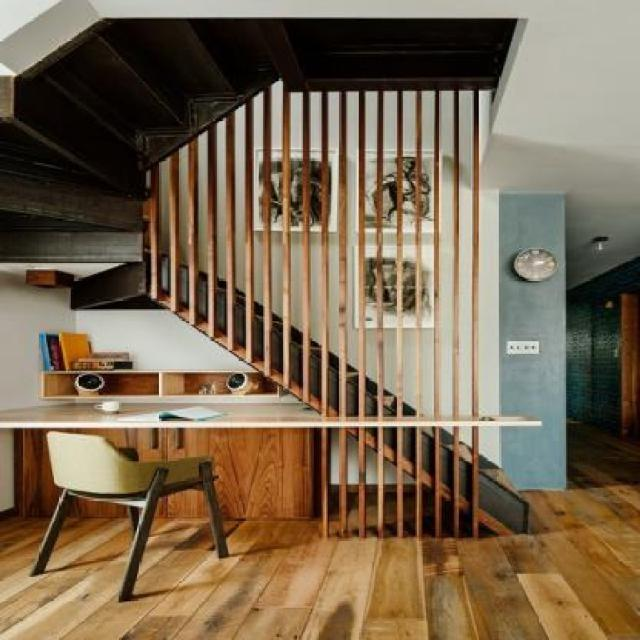stair: (92, 110, 545, 536)
